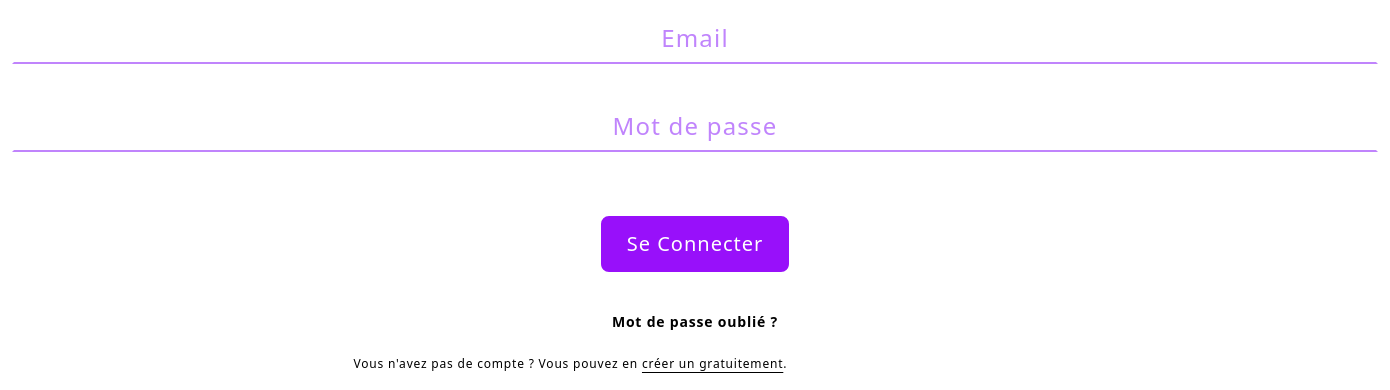
Scenario: LoginForm › rejette un email mal formé
Step 1. Type "pas-un-email" into the field with placeholder "Email" → (695, 38), box [12,12,1378,64]
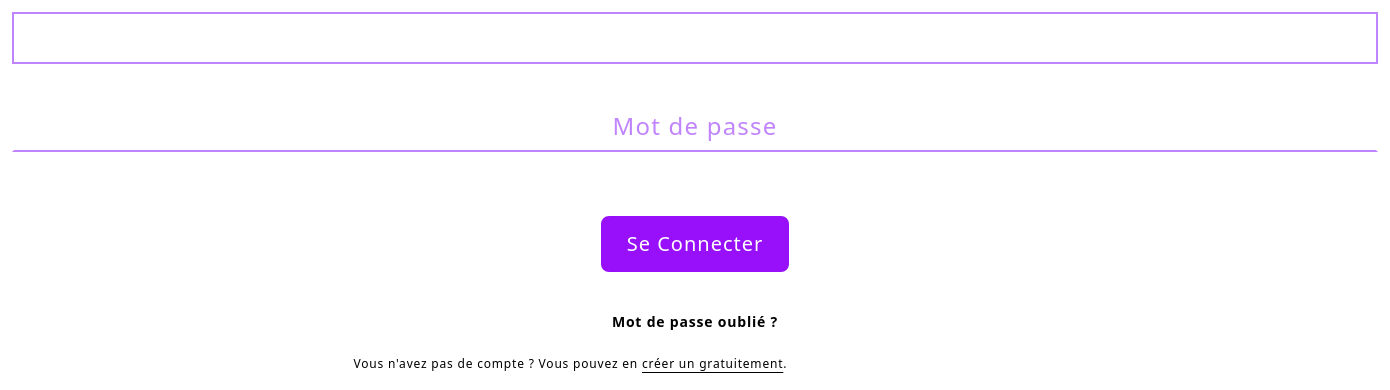
Step 2. Press Tab
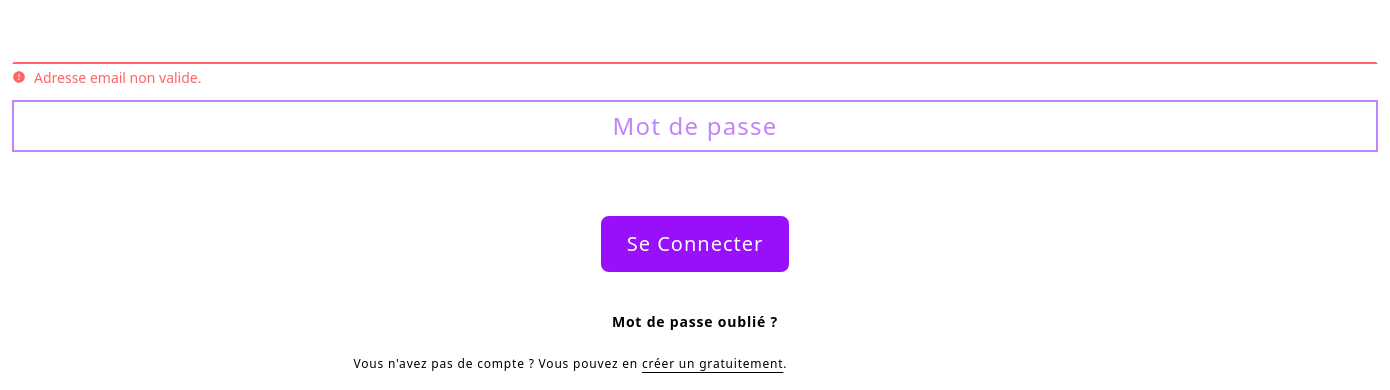
Expected: the text "Adresse email non valide." is shown, [34,68,202,88]
